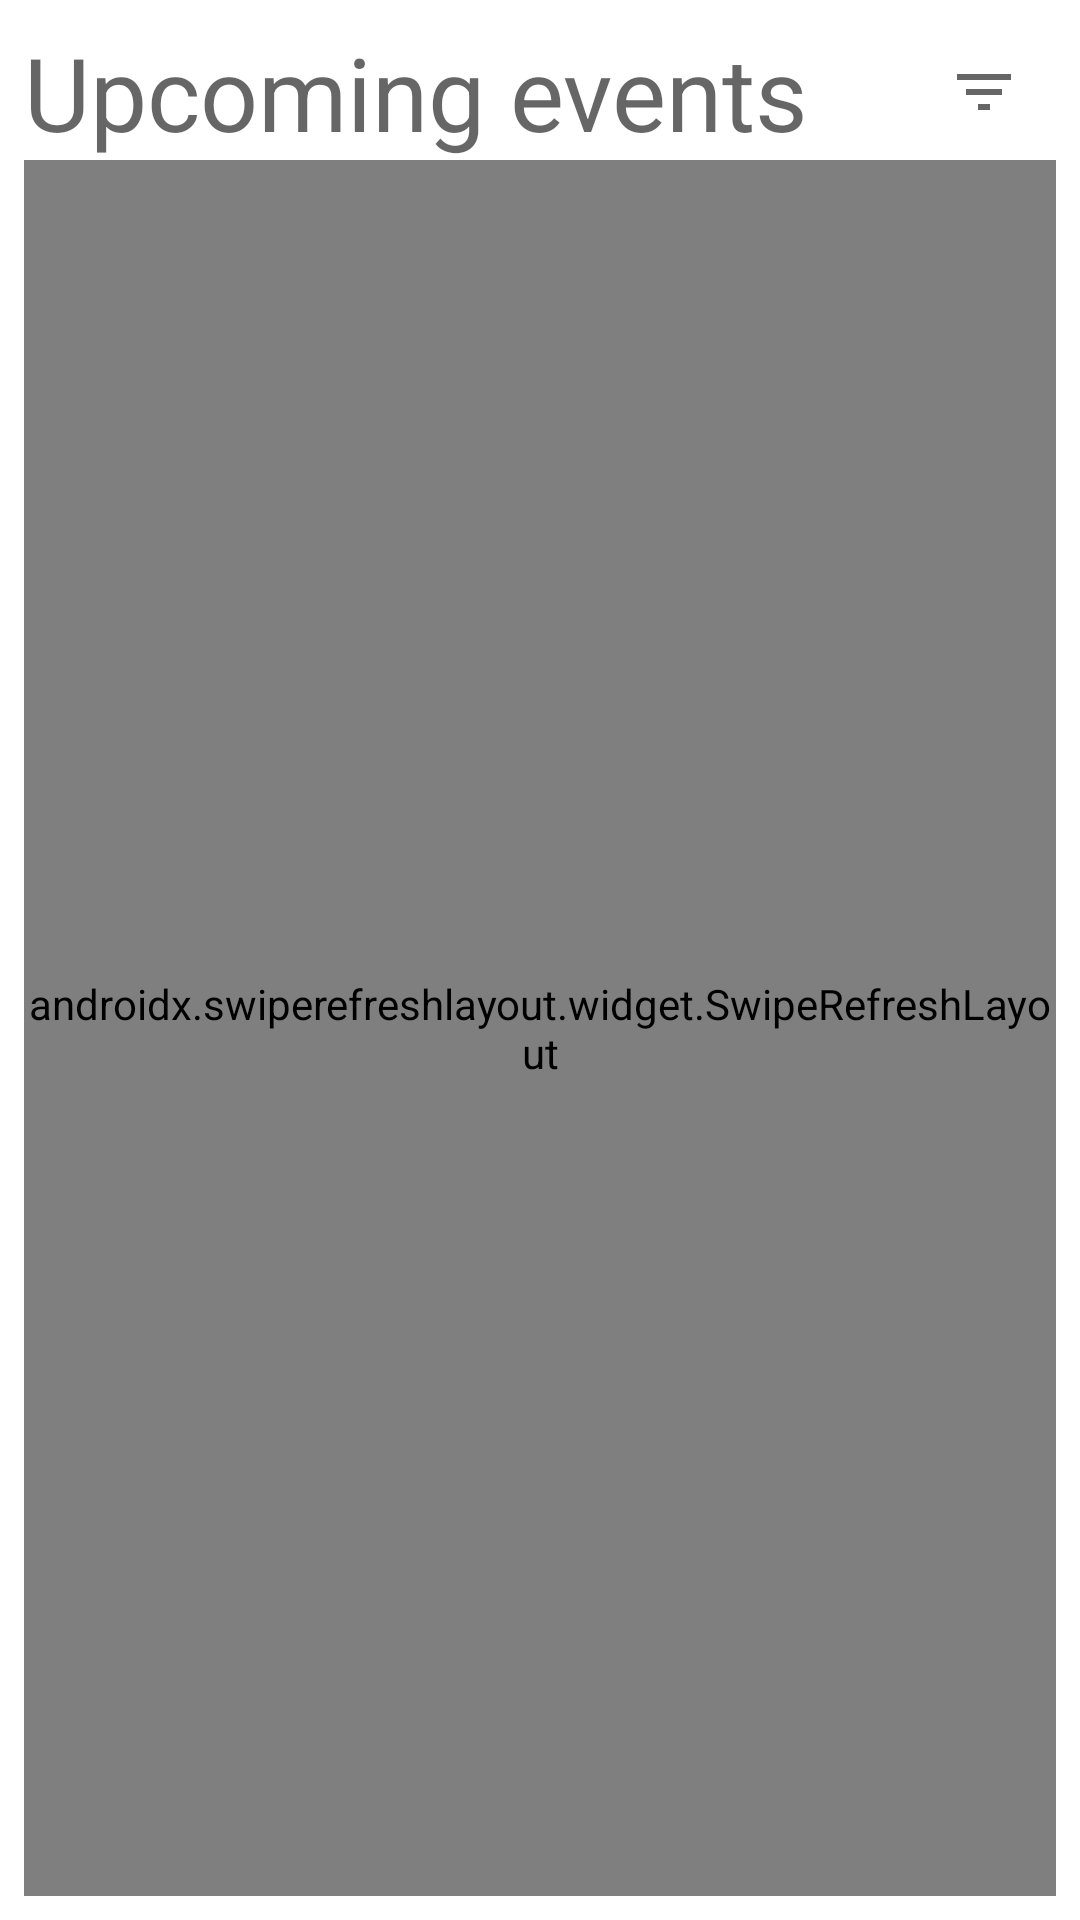

Point at icon controls on the screen. Image size 1080*1920, points as (x=x, y=y).
Filter button: (x=984, y=92)
